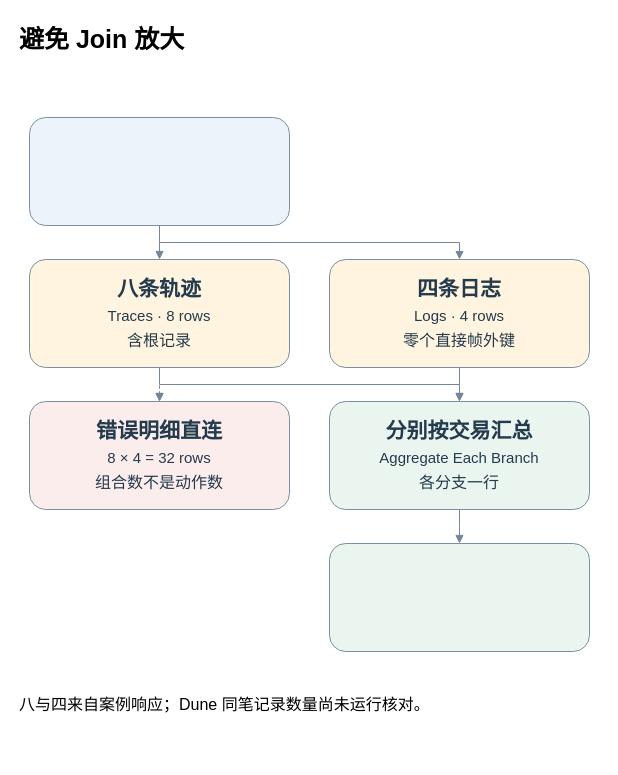
The diagram is 618 pixels wide and 775 high, and some of its shapes have lost their labels. The centre of each missing label's shape, as x and y in pixels:
一笔交易 Transaction · 1 row Value 不重复: the point at 159,171
回连主干 One Tx Summary 再做交易级统计: the point at 459,597
